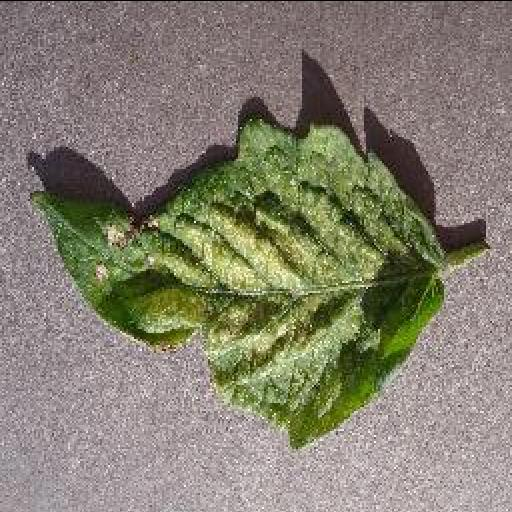disease_tomato: (34, 113, 442, 443)
